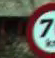Speed limit: (22, 2, 54, 52)
